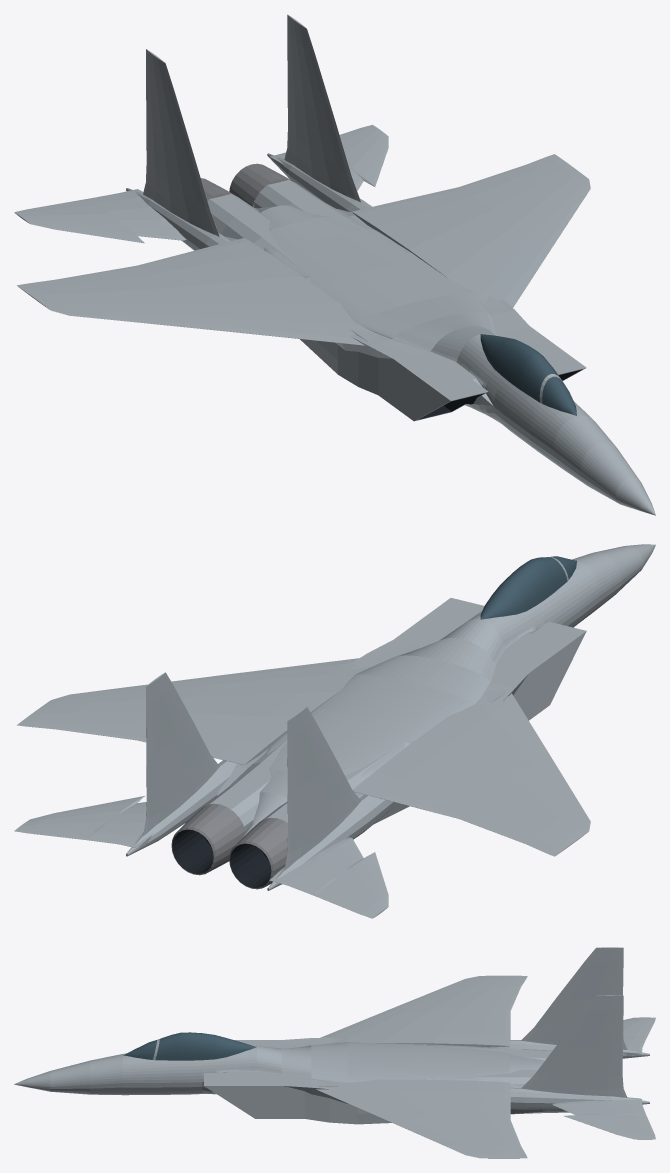
The picture shows the model from 3 angles, top to bottom: view 1: azimuth 30°, elevation 25°; view 2: azimuth 150°, elevation 25°; view 3: azimuth 270°, elevation 25°; orthographic projection. The views are drawn at different scales.
Visible parts, largest first — view 1: Airframe, Stabilator_L, Stabilator_R, Exhausts; view 2: Airframe, Exhausts, Stabilator_L, Stabilator_R; view 3: Airframe, Stabilator_R, Stabilator_L.
Boxes of the visible parts, x1=… form: Airframe: x1=17, y1=14, x2=655, y2=515; Stabilator_L: x1=14, y1=189, x2=186, y2=243; Stabilator_R: x1=269, y1=125, x2=388, y2=190; Exhausts: x1=201, y1=163, x2=294, y2=207; Airframe: x1=17, y1=544, x2=655, y2=890; Exhausts: x1=171, y1=803, x2=287, y2=889; Stabilator_L: x1=269, y1=837, x2=388, y2=918; Stabilator_R: x1=14, y1=796, x2=153, y2=848; Airframe: x1=14, y1=947, x2=649, y2=1158; Stabilator_R: x1=552, y1=1097, x2=655, y2=1139; Stabilator_L: x1=623, y1=1017, x2=655, y2=1055.
Size of the model in its own units: 13.06 by 4.35 by 19.43.
